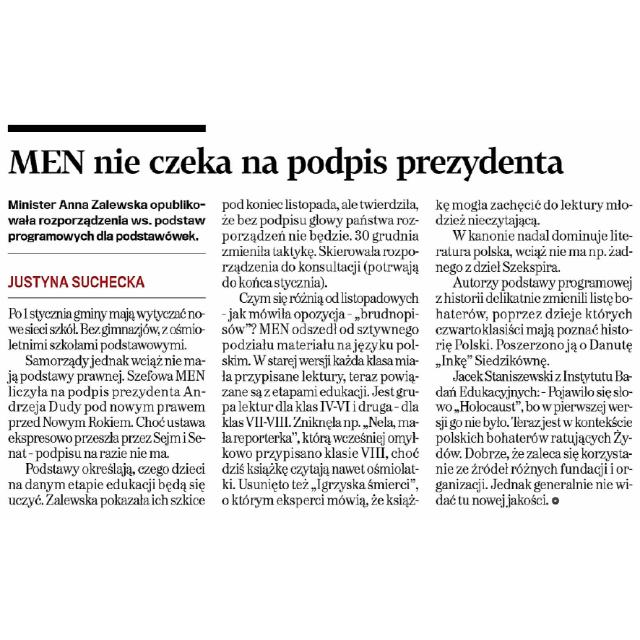author: (5, 269, 156, 293)
body: (429, 194, 635, 510), (218, 195, 424, 510), (5, 302, 212, 510)
lead: (4, 194, 210, 246)
title: (6, 142, 568, 186)
